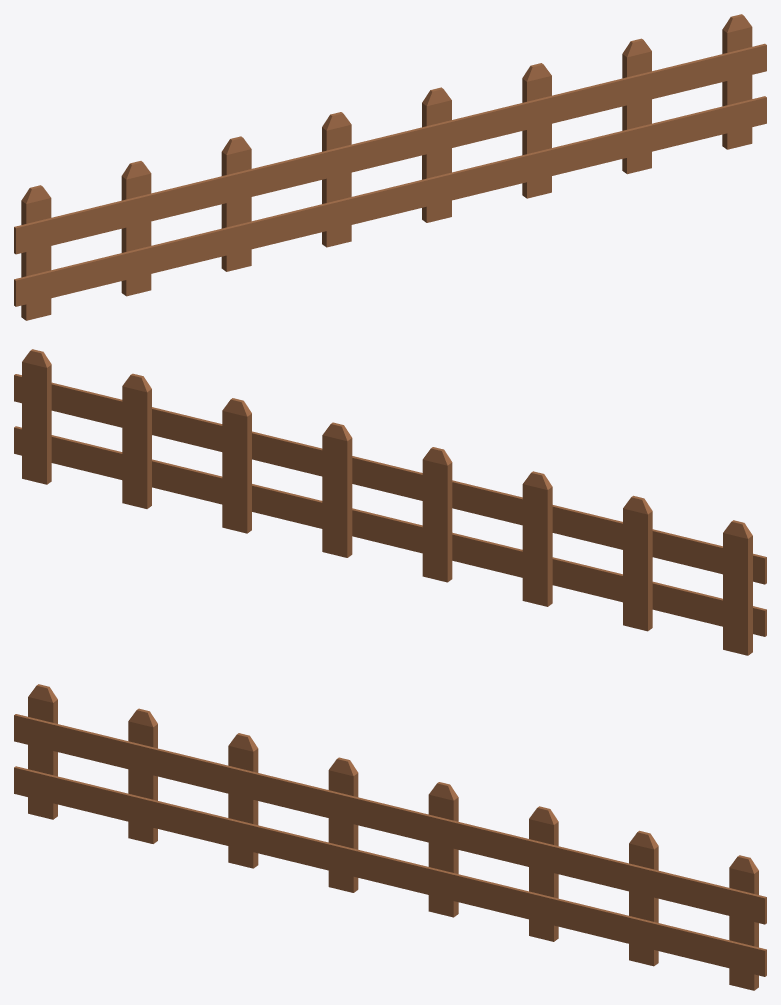
File: gass.fbx
3 renders of one model, top to bottom at view 1: azimuth 30°, elevation 25°; view 2: azimuth 150°, elevation 25°; view 3: azimuth 330°, elevation 25°, orthographic.
Parts seen in each view (by area): view 1: 立方體.123; view 2: 立方體.123; view 3: 立方體.123.
Boxes of the visible parts, x1=… form: 立方體.123: x1=14, y1=14, x2=766, y2=320; 立方體.123: x1=14, y1=349, x2=766, y2=655; 立方體.123: x1=14, y1=684, x2=766, y2=990.
Bounding box in the file's own units: 335 × 54.88 × 5.16.
